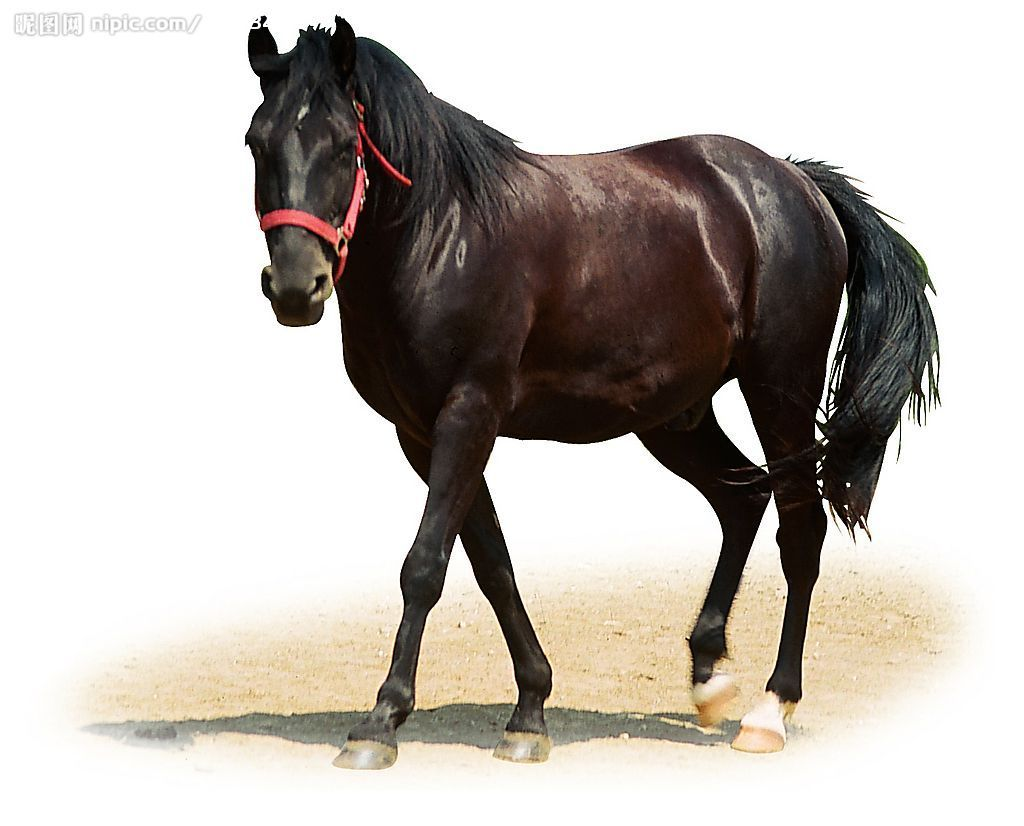horse: (246, 14, 939, 769)
